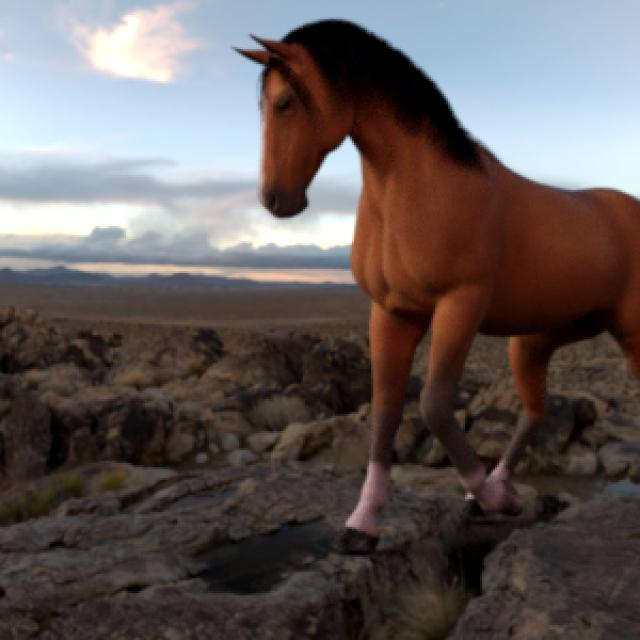horse: (239, 20, 640, 553)
